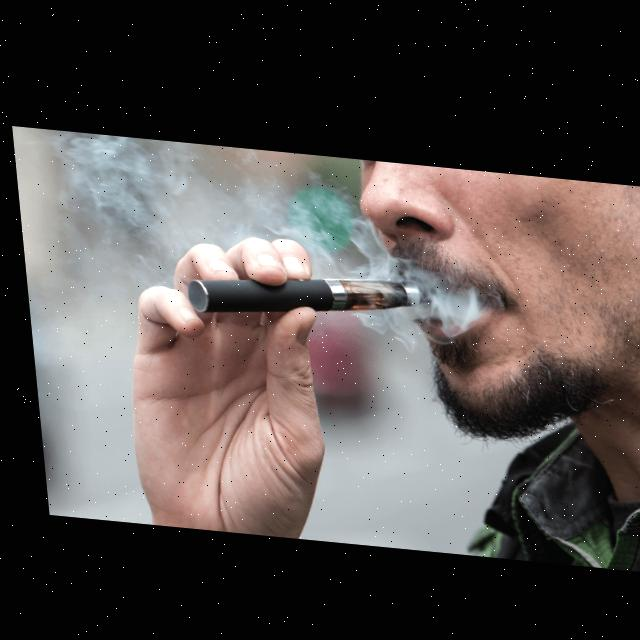vape: (178, 254, 423, 326)
